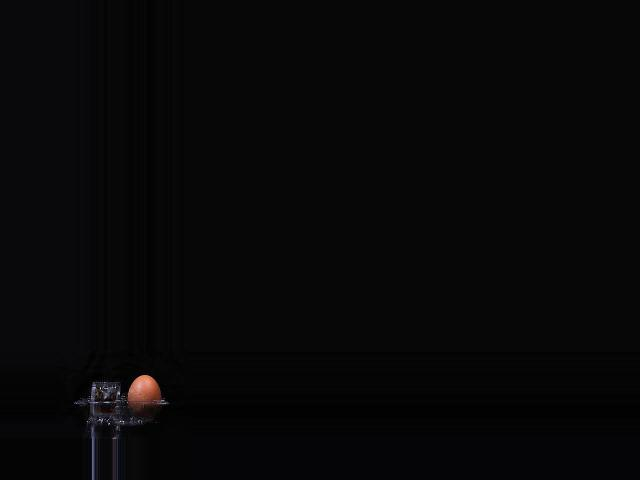egg: (128, 375, 162, 420)
